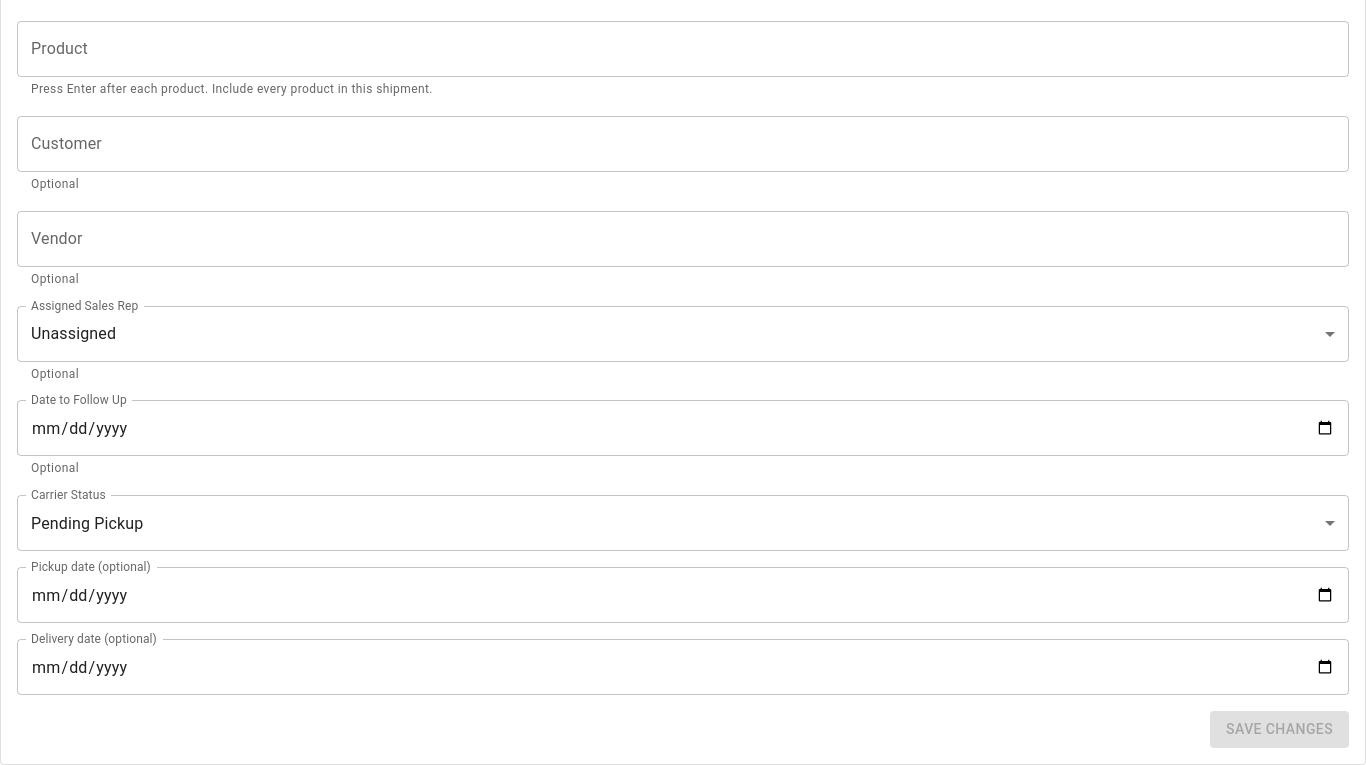
Test: enables Save changes after changing only the manual carrier status
(page scrolled)
Expected: the button "Save changes" is disabled, [1210,711,1349,748]
Select "Delivered" in the dropdown labelled "Carrier Status" at (683, 523), box [17,495,1349,551]
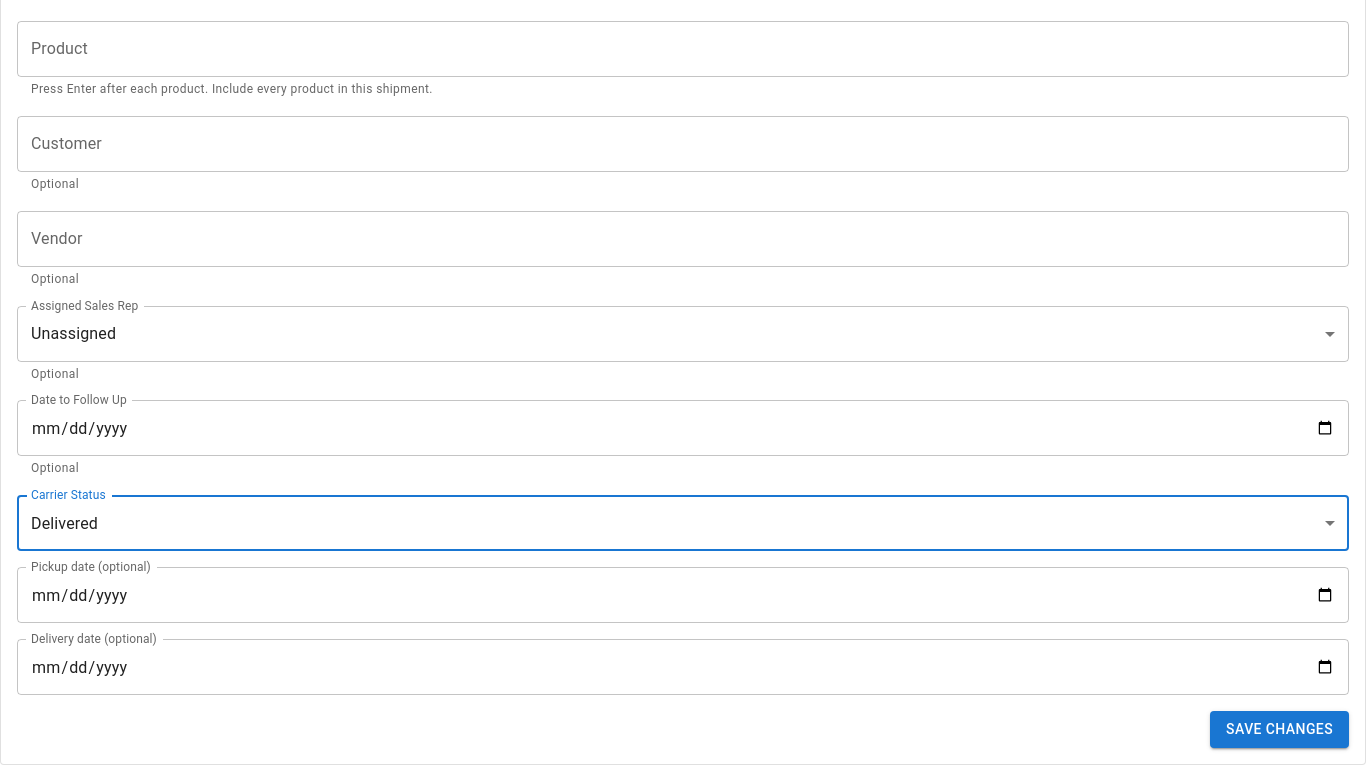
Expected: the button "Save changes" is enabled, [1210,711,1349,748]
